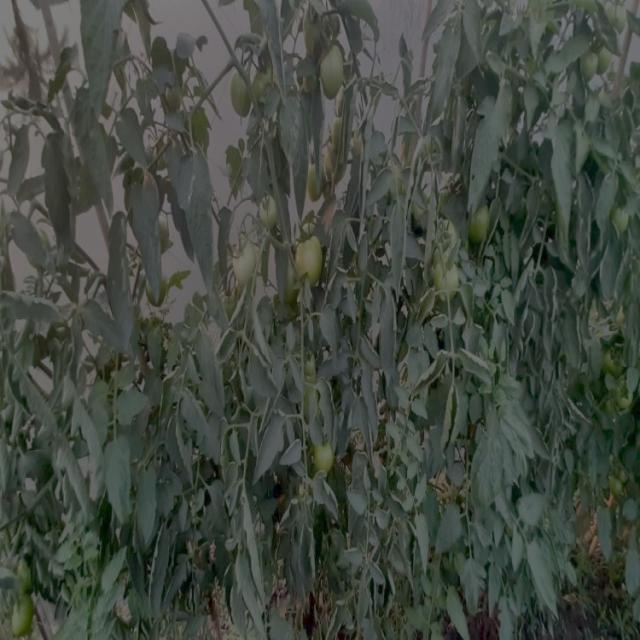tomato: (312, 37, 352, 103), (290, 227, 331, 285), (220, 231, 264, 283), (429, 255, 466, 306), (306, 433, 340, 481), (465, 201, 497, 247), (9, 592, 39, 636), (9, 550, 39, 590), (228, 65, 250, 116), (299, 150, 325, 193), (586, 43, 613, 81), (254, 191, 280, 229), (608, 205, 632, 240), (435, 213, 457, 248), (256, 66, 274, 106), (606, 337, 626, 370)
